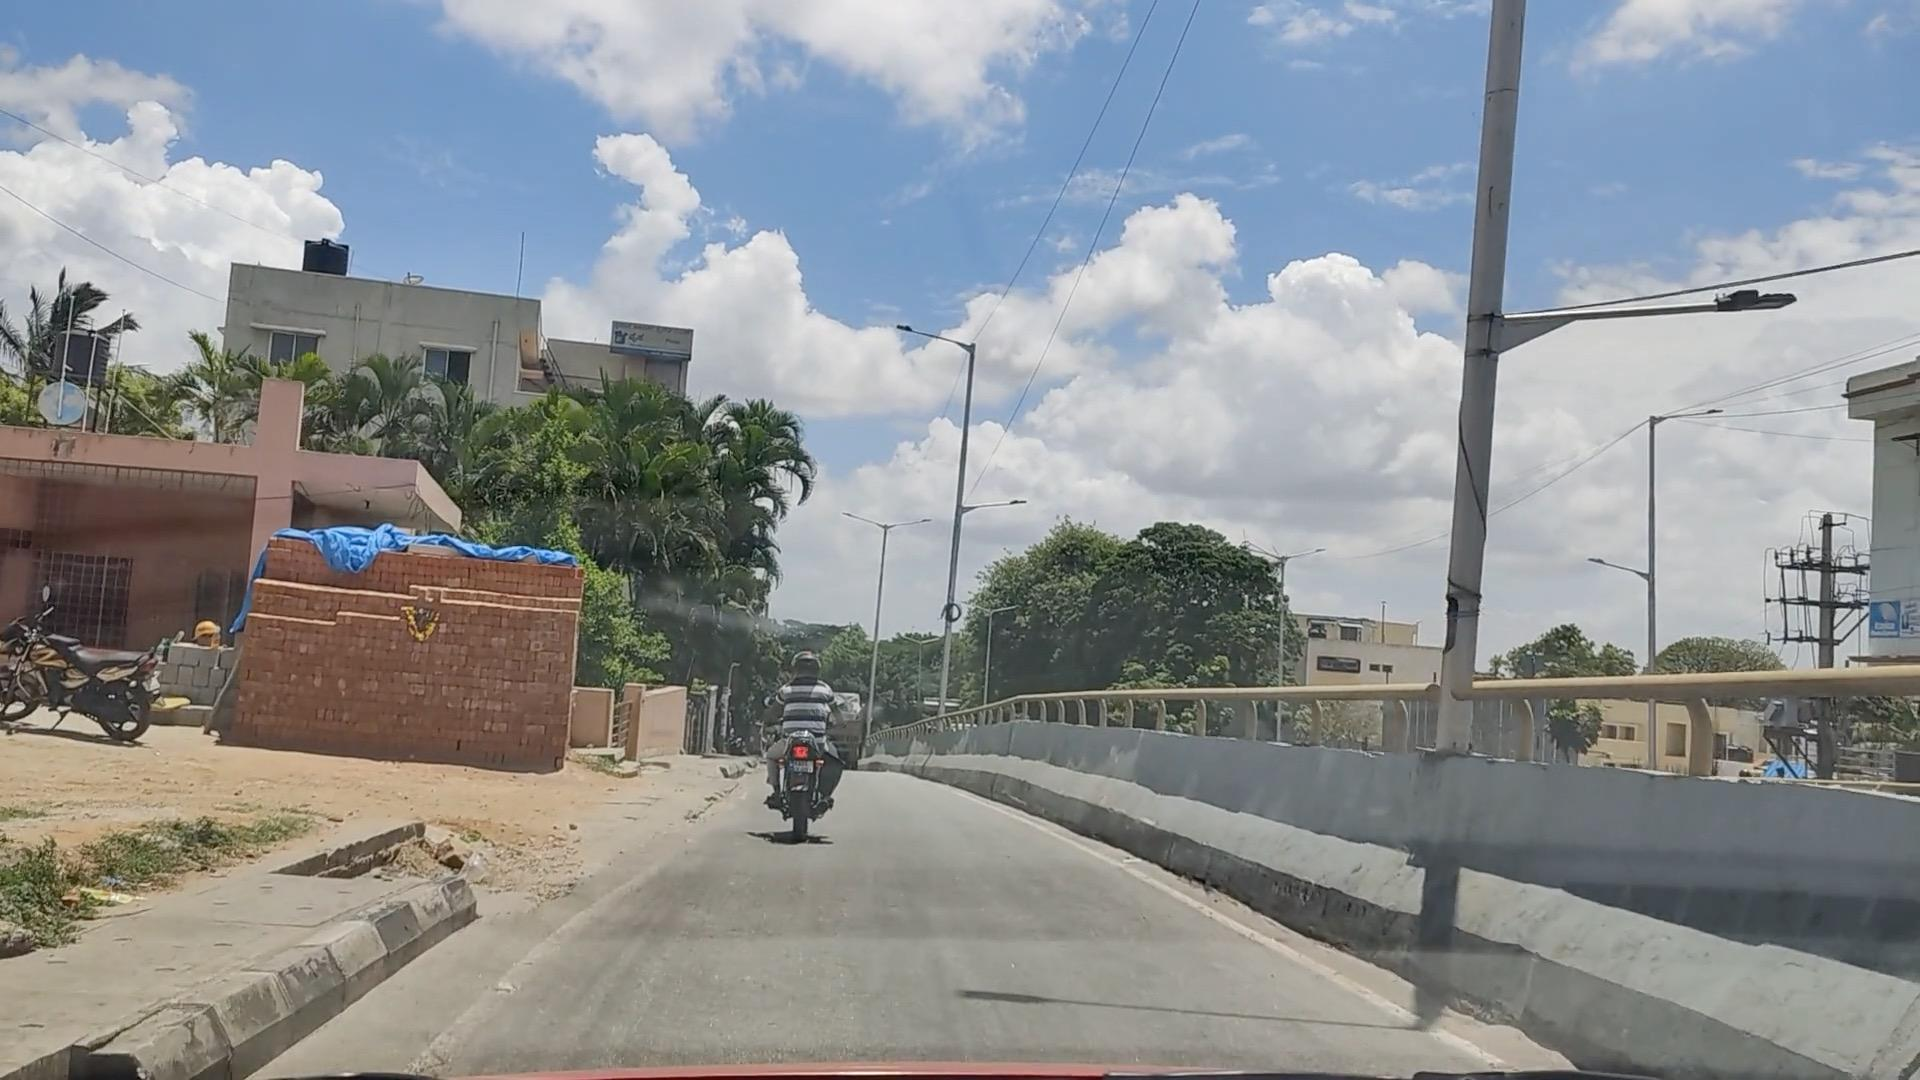LMV: (750, 650, 847, 833), (0, 630, 177, 719)
